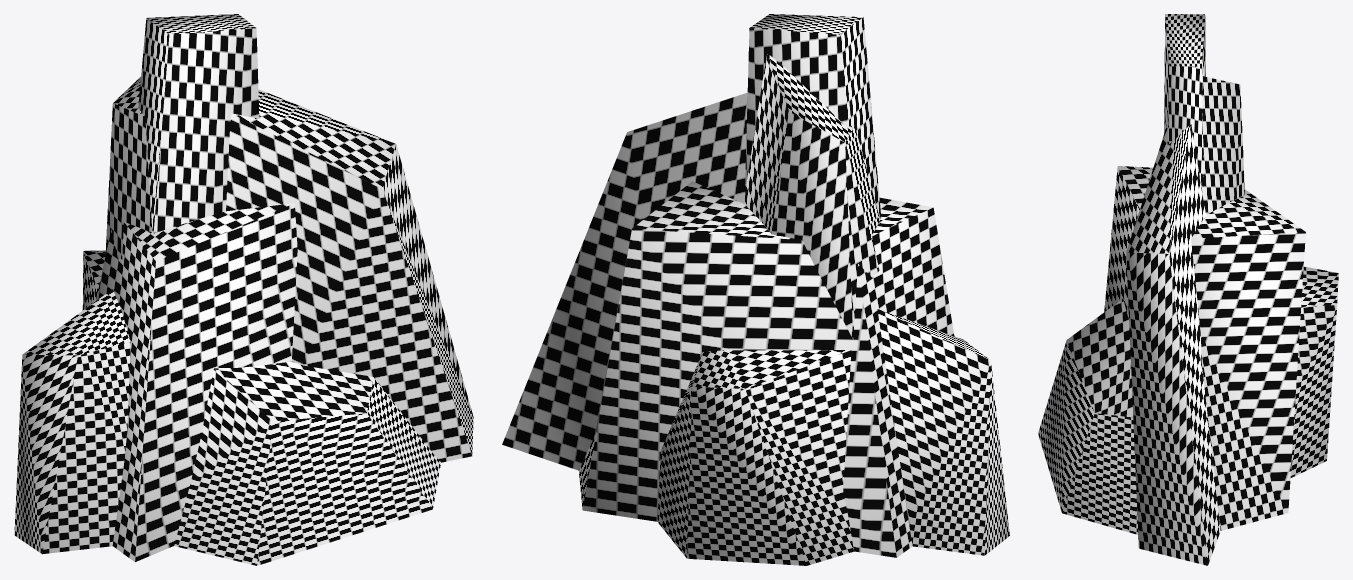
Rendered from naflte2.dae.
The picture shows the model from 3 angles, left to right: view 1: azimuth 30°, elevation 25°; view 2: azimuth 150°, elevation 25°; view 3: azimuth 270°, elevation 25°; orthographic projection. The views are drawn at different scales.
Parts seen in each view (by area): view 1: termitary; view 2: termitary; view 3: termitary.
Part boxes in pixels (left/top/right/bottom): termitary: left=14, top=14, right=473, bottom=565; termitary: left=502, top=14, right=1009, bottom=565; termitary: left=1038, top=14, right=1338, bottom=565.
Bounding box in the file's own units: 2.63 × 1.71 × 2.59.
Materials: 1 (1 with a texture image).
